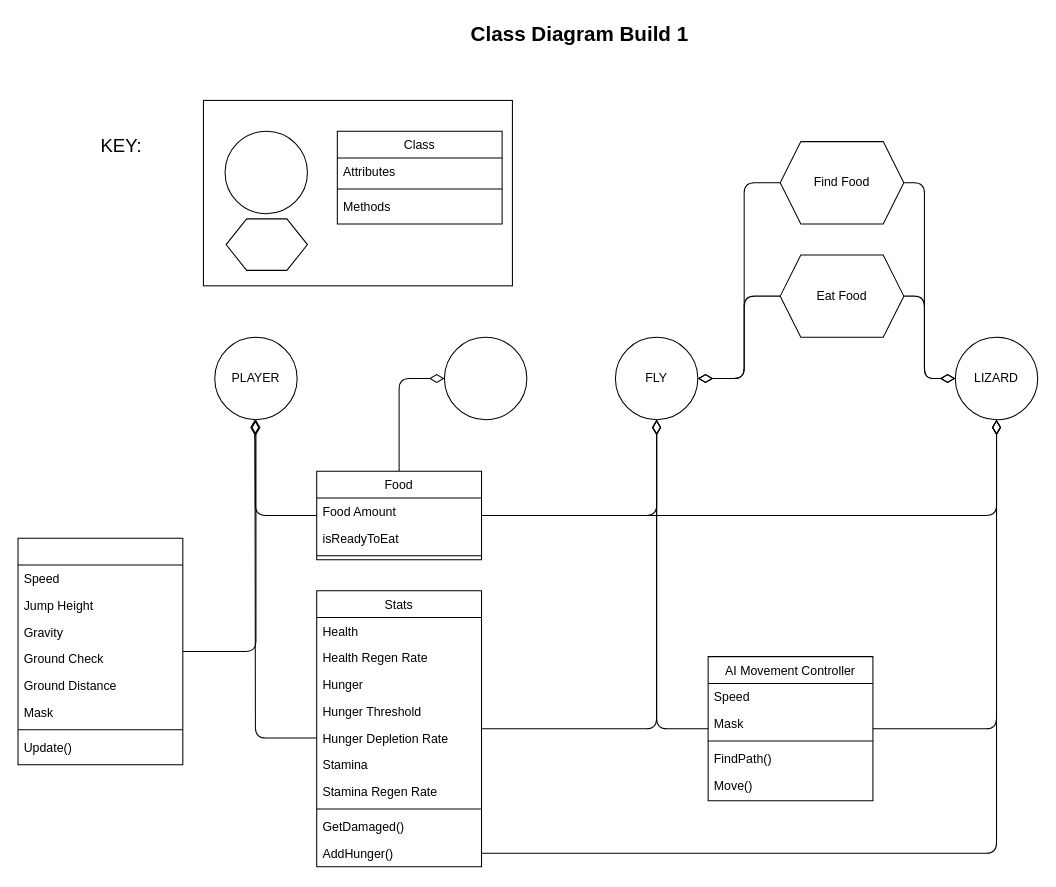
The diagram is 1056 pixels wide and 887 high, and some of its shapes have lost their labels. The box of each missing label's shape, as (x1, y1, x2, y2) in pixels:
ACTION: (225, 218, 307, 270)
GAME OBJECT: (224, 130, 307, 214)
Movement Controller: (17, 537, 183, 765)
PLANT: (443, 336, 527, 420)
